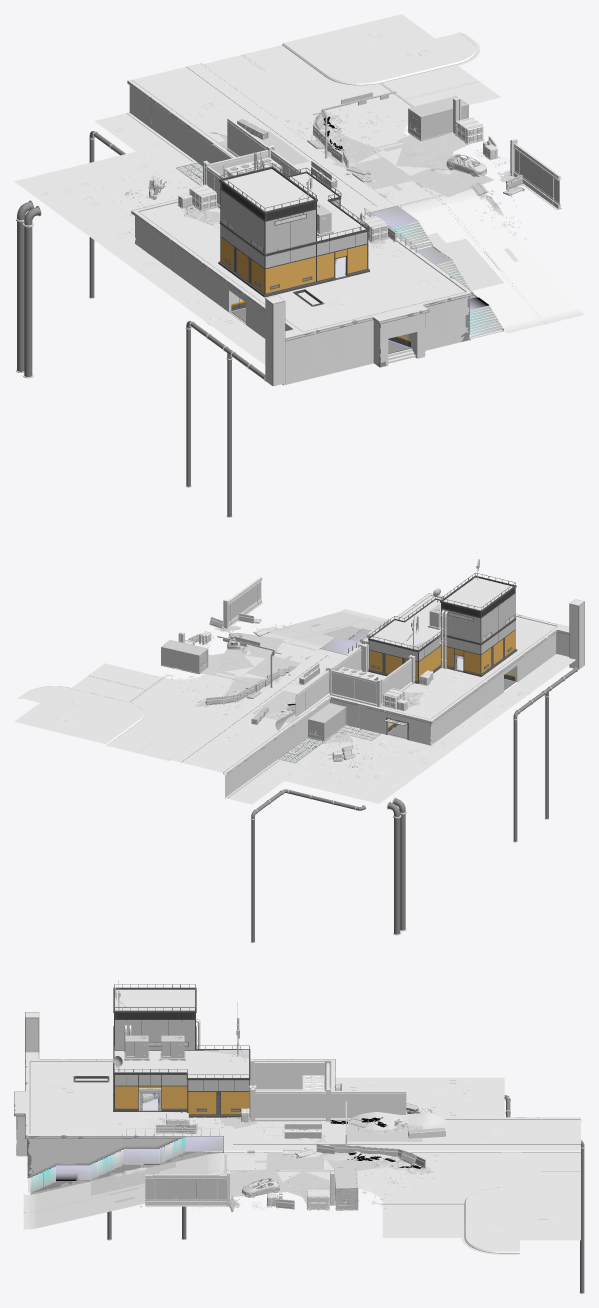
Rendered from cell_169_117.fbx.
3 renders of one model, top to bottom at view 1: azimuth 30°, elevation 25°; view 2: azimuth 150°, elevation 25°; view 3: azimuth 270°, elevation 25°, orthographic. The views are drawn at different scales.
Visible parts, largest first — view 1: SM_I_RoadFacility_Ground_C_04.mo, SM_I_RoadFacility_Ground_C_04C.mo, SM_H_Building_FutureTech_ToolHouse_01_ExterWall_01.mo, SM_I_RoadFacility_Ground_C_04Dd.mo, SM_H_Industrial_Container_02.mo.137, SM_DECOR_GrassDebris_Less_01_HD.mo.1382, SM_DECOR_GrassDebris_Less_01_HD.mo.1274, SM_DECOR_GrassDebris_Less_01_HD.mo.1280, SM_H_Fence_SoundproofWall_03_Glass.mo.008, SM_H_Fence_SoundproofWall_02.mo.085, SM_H_Fence_SoundproofWall_03.mo.008, SM_DECOR_GrassDebris_Less_01_HD.mo.1282 (+3 smaller); view 2: SM_I_RoadFacility_Ground_C_04.mo, SM_H_Building_FutureTech_ToolHouse_01_ExterWall_01.mo, SM_I_RoadFacility_Ground_C_04C.mo, SM_I_RoadFacility_Ground_C_04Dd.mo, SM_H_Fence_SoundproofWall_02.mo.083, SM_H_Industrial_Container_02.mo.137, SM_H_Industrial_Container_02.mo.118, SM_H_Fence_SoundproofWall_02.mo.085, SM_H_Fence_SoundproofWall_02.mo.082, SM_DECOR_GrassDebris_Less_01_HD.mo.1274, SM_I_RoadFacility_Ground_C_04b.mo, SM_DECOR_GrassDebris_Less_01_HD.mo.1290 (+3 smaller); view 3: SM_I_RoadFacility_Ground_C_04.mo, SM_H_Building_FutureTech_ToolHouse_01_ExterWall_01.mo, SM_I_RoadFacility_Ground_C_04C.mo, SM_H_Fence_SoundproofWall_02.mo.084, SM_H_Fence_SoundproofWall_02.mo.085, SM_H_Fence_SoundproofWall_02.mo.082, SM_H_Fence_SoundproofWall_03_Glass.mo.008, SM_I_RoadFacility_Ground_C_04Dd.mo, SM_H_Fence_SoundproofWall_03.mo.008, SM_H_Industrial_Container_02.mo.137, SM_I_Terrain_Road_Desert_Decal_Sand_02.mo.118, SM_DECOR_GrassDebris_Less_01_HD.mo.1290 (+8 smaller).
Part boxes in pixels (<box>): SM_I_RoadFacility_Ground_C_04.mo: <box>19,14,584,386</box>; SM_I_RoadFacility_Ground_C_04C.mo: <box>14,32,583,385</box>; SM_H_Building_FutureTech_ToolHouse_01_ExterWall_01.mo: <box>218,163,369,297</box>; SM_I_RoadFacility_Ground_C_04Dd.mo: <box>16,124,265,517</box>; SM_H_Industrial_Container_02.mo.137: <box>408,95,468,141</box>; SM_DECOR_GrassDebris_Less_01_HD.mo.1382: <box>433,239,503,290</box>; SM_DECOR_GrassDebris_Less_01_HD.mo.1274: <box>405,162,493,197</box>; SM_DECOR_GrassDebris_Less_01_HD.mo.1280: <box>355,157,411,189</box>; SM_H_Fence_SoundproofWall_03_Glass.mo.008: <box>514,149,559,202</box>; SM_H_Fence_SoundproofWall_02.mo.085: <box>227,118,274,157</box>; SM_H_Fence_SoundproofWall_03.mo.008: <box>510,138,561,209</box>; SM_DECOR_GrassDebris_Less_01_HD.mo.1282: <box>397,132,471,156</box>; SM_I_RoadFacility_Ground_C_04.mo: <box>14,593,584,803</box>; SM_H_Building_FutureTech_ToolHouse_01_ExterWall_01.mo: <box>368,572,517,683</box>; SM_I_RoadFacility_Ground_C_04C.mo: <box>18,593,584,804</box>; SM_I_RoadFacility_Ground_C_04Dd.mo: <box>246,667,577,942</box>; SM_H_Fence_SoundproofWall_02.mo.083: <box>331,670,382,707</box>; SM_H_Industrial_Container_02.mo.137: <box>161,640,208,674</box>; SM_H_Industrial_Container_02.mo.118: <box>308,703,346,740</box>; SM_H_Fence_SoundproofWall_02.mo.085: <box>295,666,332,717</box>; SM_H_Fence_SoundproofWall_02.mo.082: <box>380,655,415,706</box>; SM_DECOR_GrassDebris_Less_01_HD.mo.1274: <box>224,633,284,658</box>; SM_I_RoadFacility_Ground_C_04b.mo: <box>278,725,381,763</box>; SM_DECOR_GrassDebris_Less_01_HD.mo.1290: <box>251,690,325,724</box>; SM_I_RoadFacility_Ground_C_04.mo: <box>14,1012,580,1253</box>; SM_H_Building_FutureTech_ToolHouse_01_ExterWall_01.mo: <box>113,984,250,1117</box>; SM_I_RoadFacility_Ground_C_04C.mo: <box>14,1012,581,1254</box>; SM_H_Fence_SoundproofWall_02.mo.084: <box>250,1087,325,1121</box>; SM_H_Fence_SoundproofWall_02.mo.085: <box>326,1087,406,1121</box>; SM_H_Fence_SoundproofWall_02.mo.082: <box>249,1058,324,1090</box>; SM_H_Fence_SoundproofWall_03_Glass.mo.008: <box>145,1180,226,1199</box>; SM_I_RoadFacility_Ground_C_04Dd.mo: <box>107,1080,584,1293</box>; SM_H_Fence_SoundproofWall_03.mo.008: <box>145,1171,229,1206</box>; SM_H_Industrial_Container_02.mo.137: <box>334,1166,358,1210</box>; SM_I_Terrain_Road_Desert_Decal_Sand_02.mo.118: <box>348,1112,447,1130</box>; SM_DECOR_GrassDebris_Less_01_HD.mo.1290: <box>347,1121,422,1141</box>.
Bounding box in the file's own units: 64.17 × 43.55 × 73.66.
